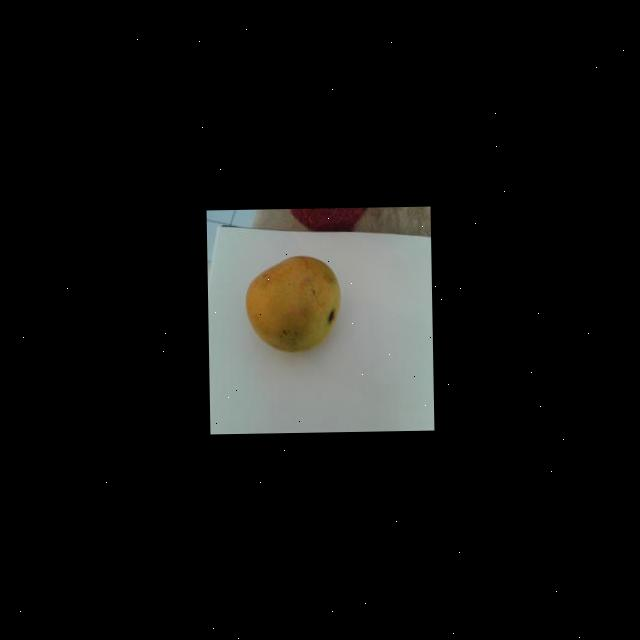Mango: (244, 254, 340, 352)
